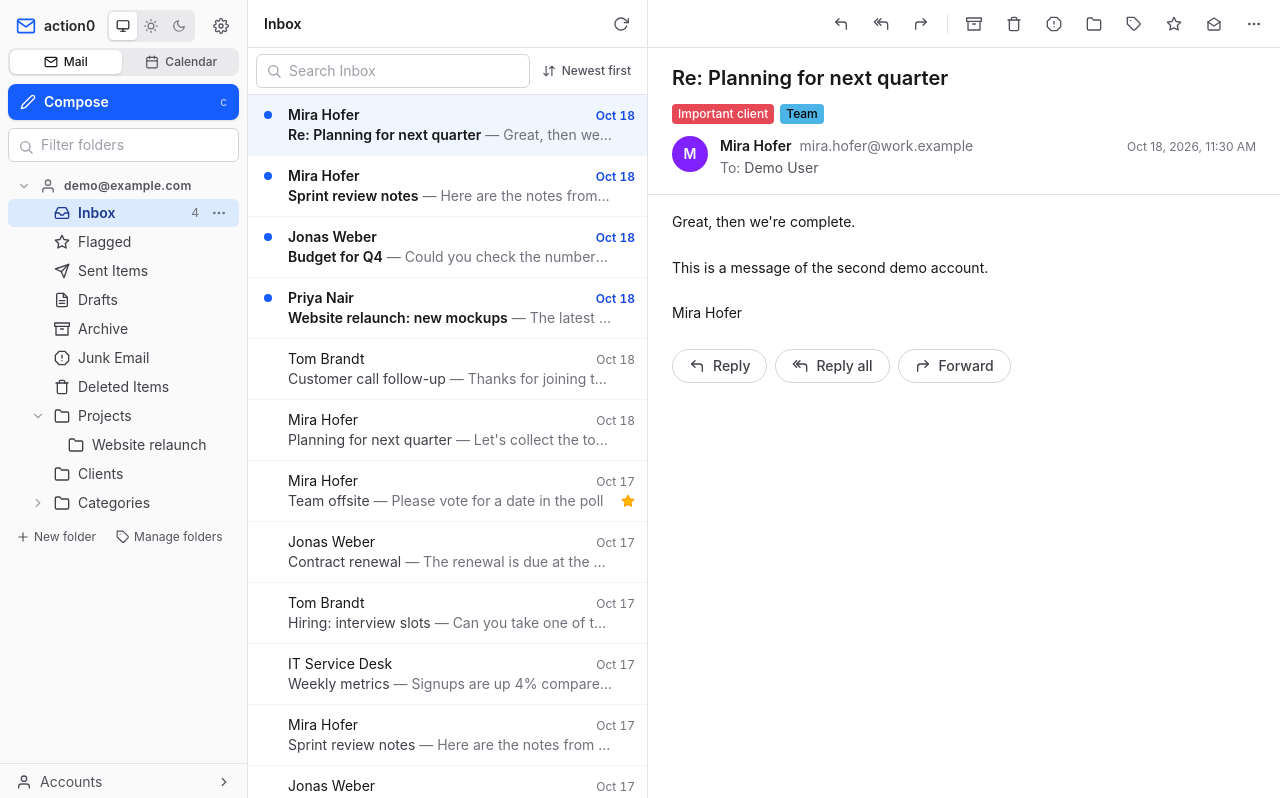
Outlook categories › manages folders and categories in one list, each with its own New button
Click the button "Manage folders" at [169, 537], box x1=108 y1=525 x2=231 y2=549
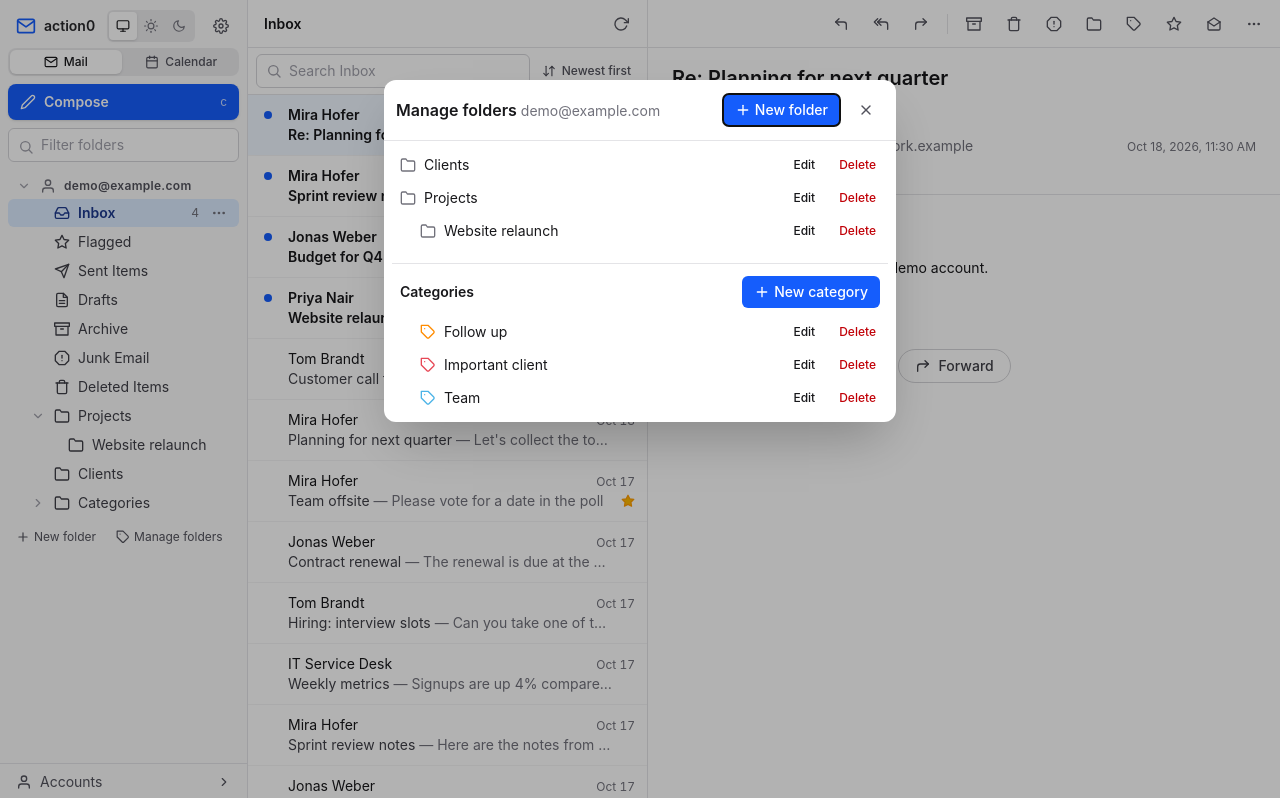
Click the button "New category" at [811, 292], box x1=742 y1=276 x2=880 y2=308
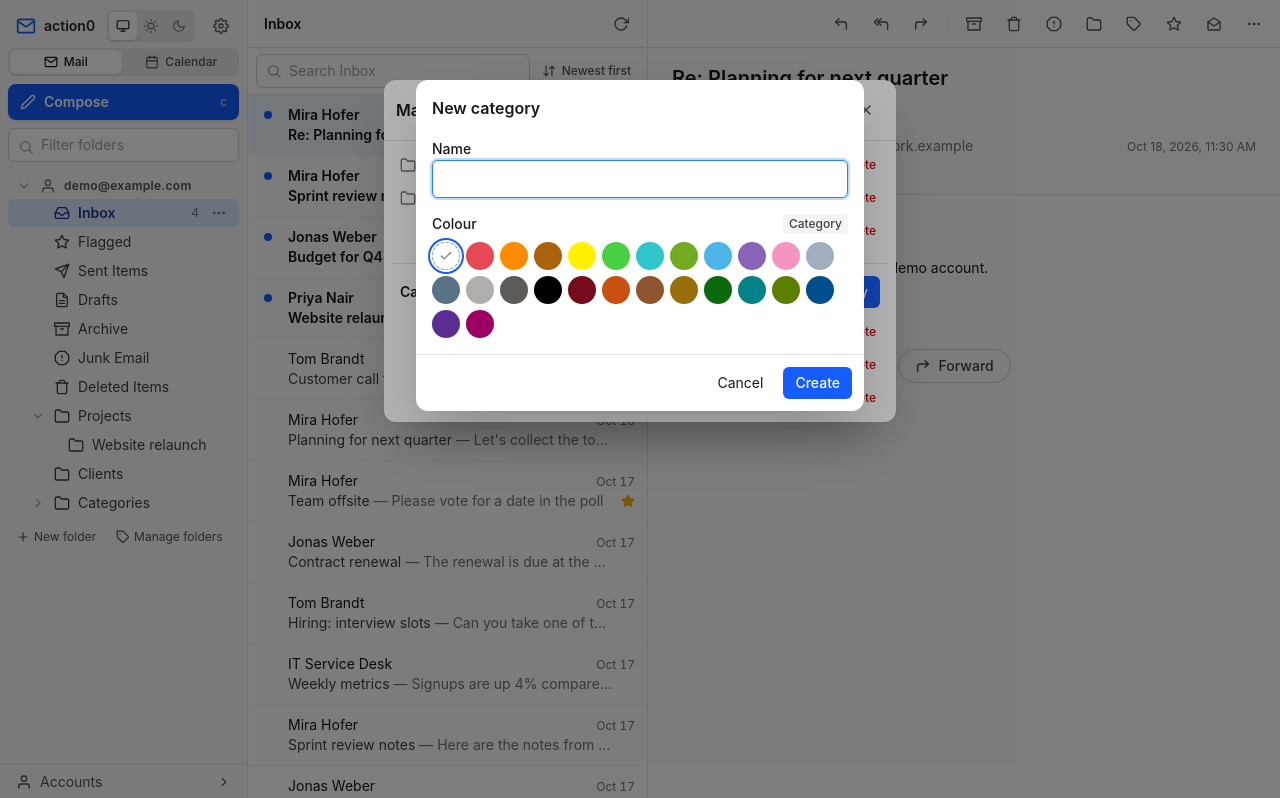
Type "Later" into the field labelled "Name" at [640, 179], box x1=432 y1=160 x2=848 y2=198
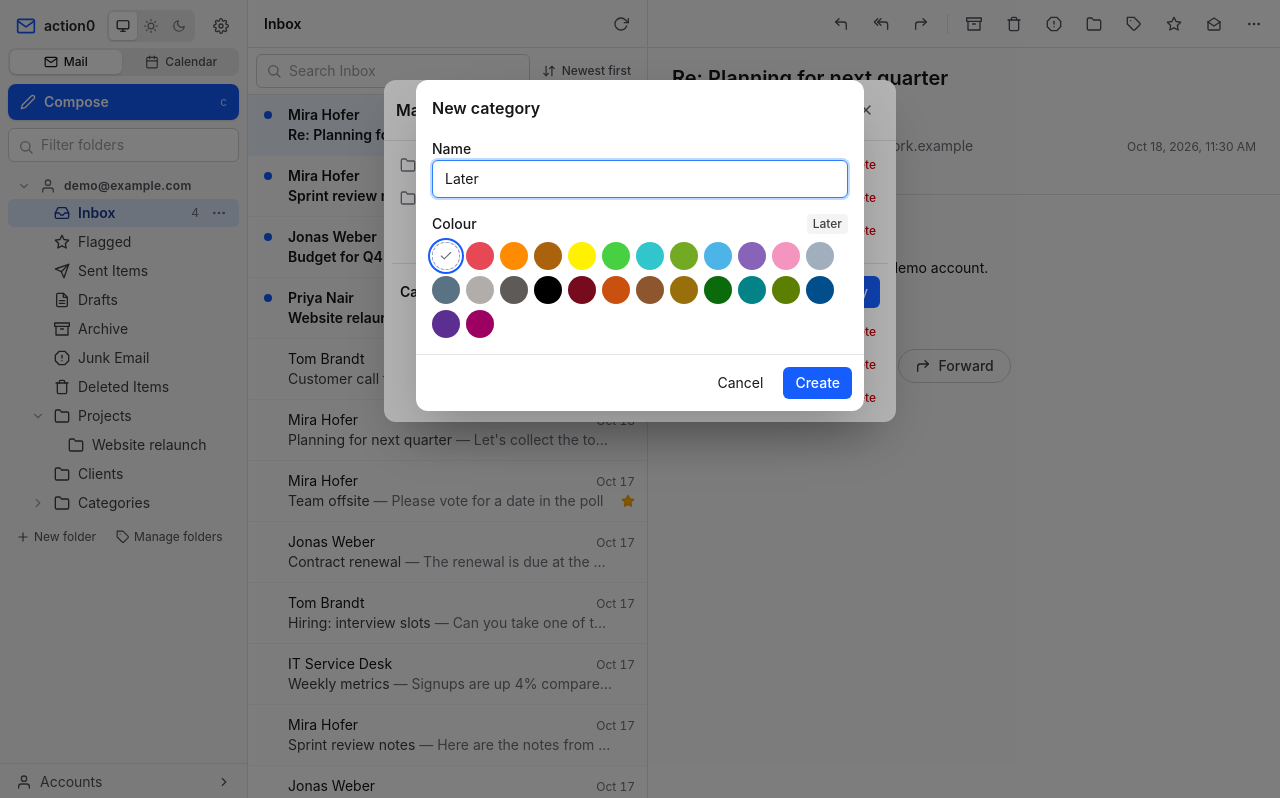
Click the button "Create" at [818, 383], box x1=783 y1=367 x2=852 y2=399
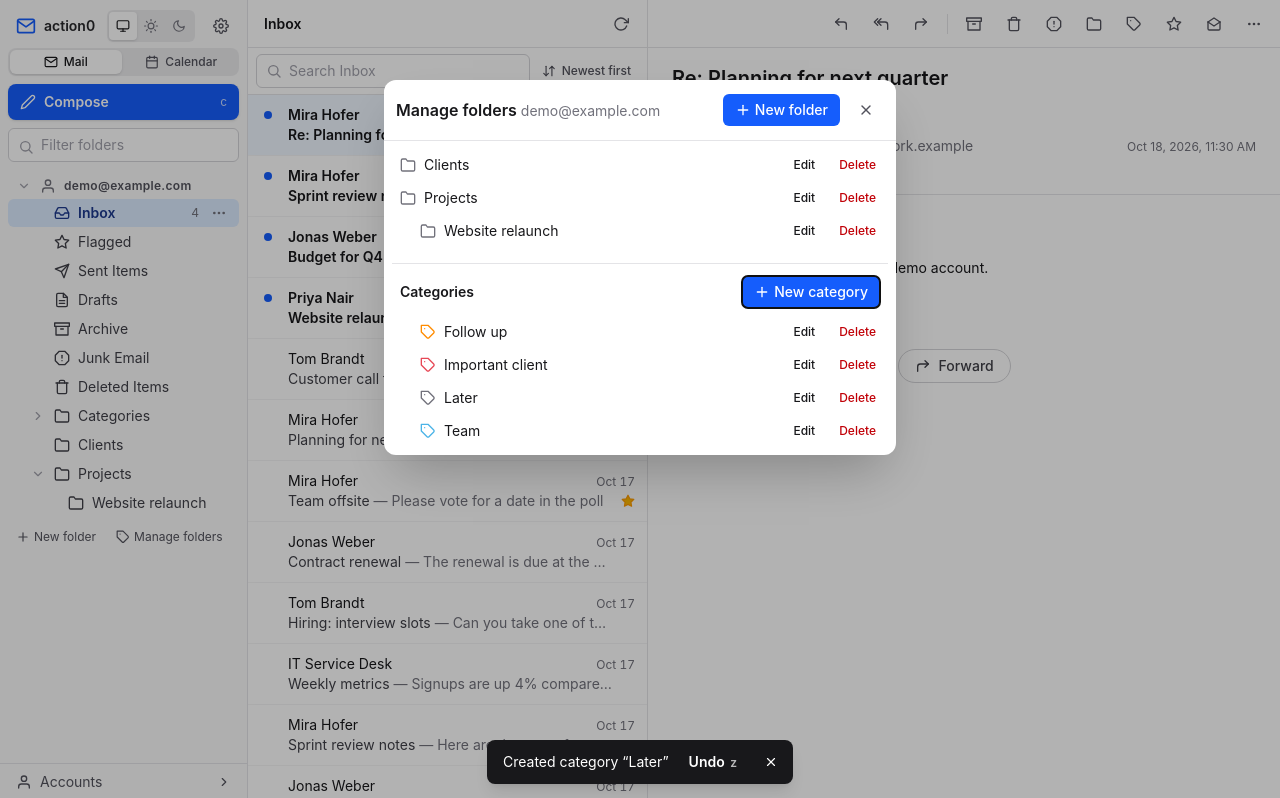
Check: the text "Created category “Later”" is shown, box x1=503 y1=752 x2=669 y2=772
